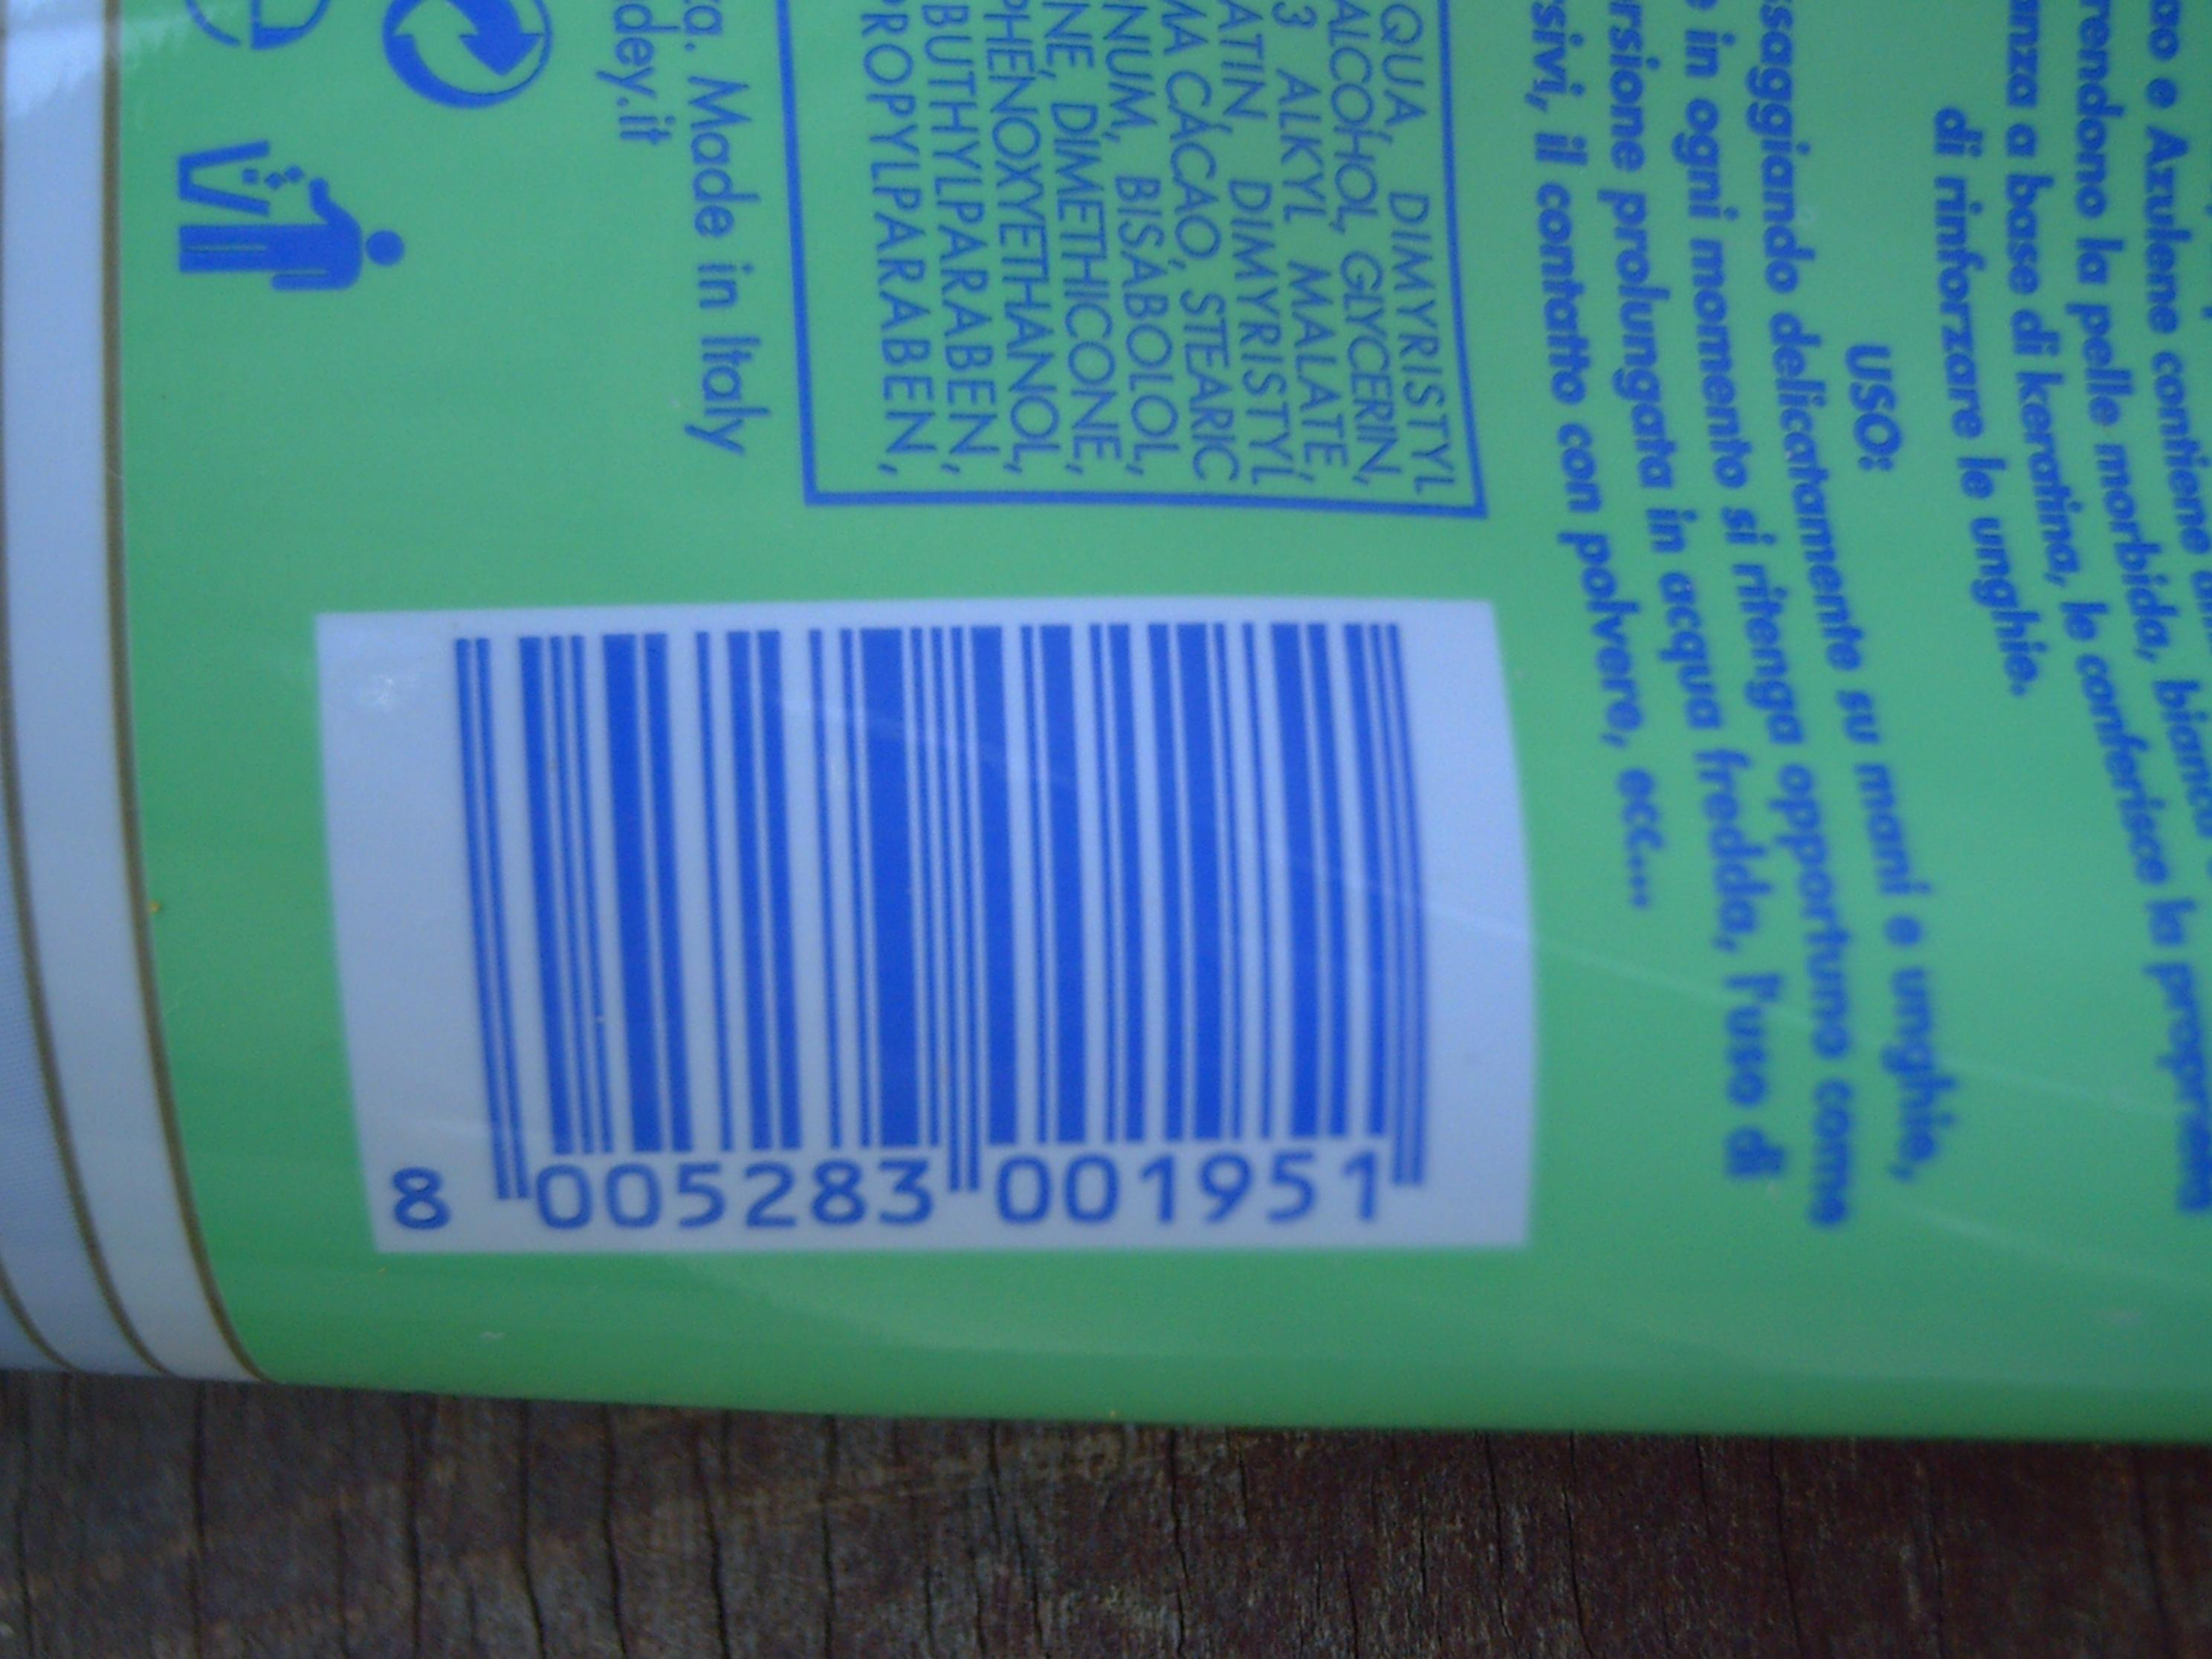barcode: (315, 606, 1543, 1253)
